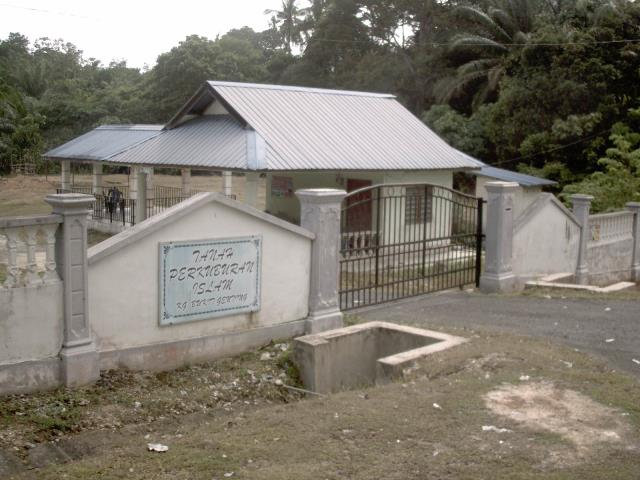ads_sign: (148, 234, 273, 332)
